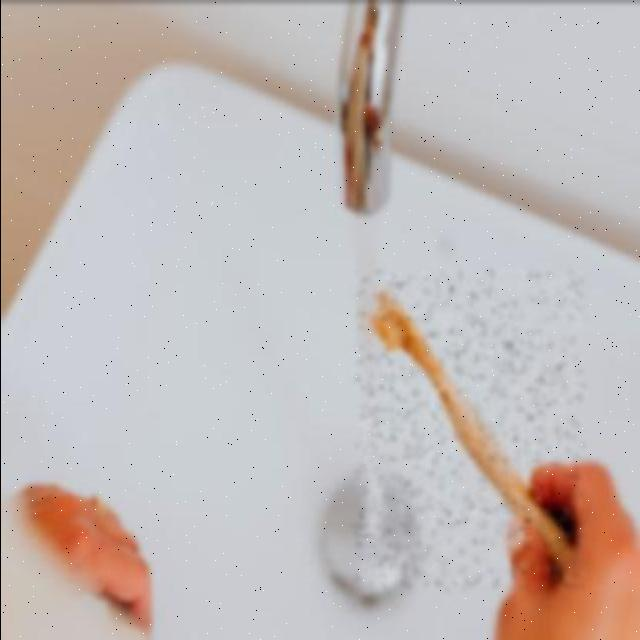toothbrush: (356, 269, 582, 589)
